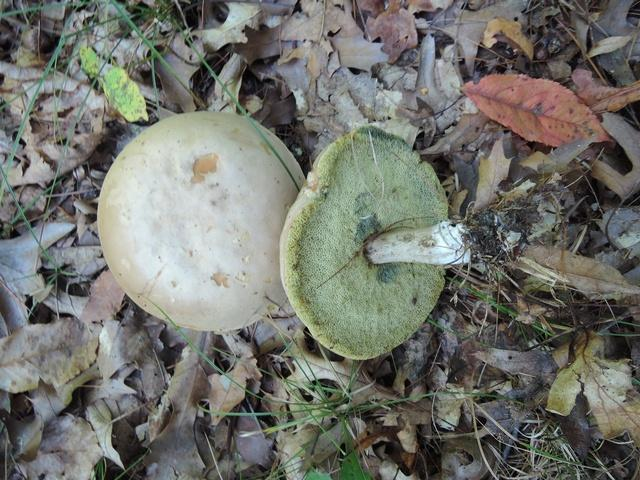Edible Mushroom: (95, 109, 306, 334), (277, 123, 472, 360)
